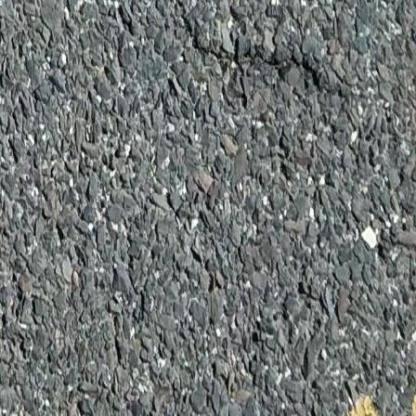Cracks: (73, 1, 416, 135)
